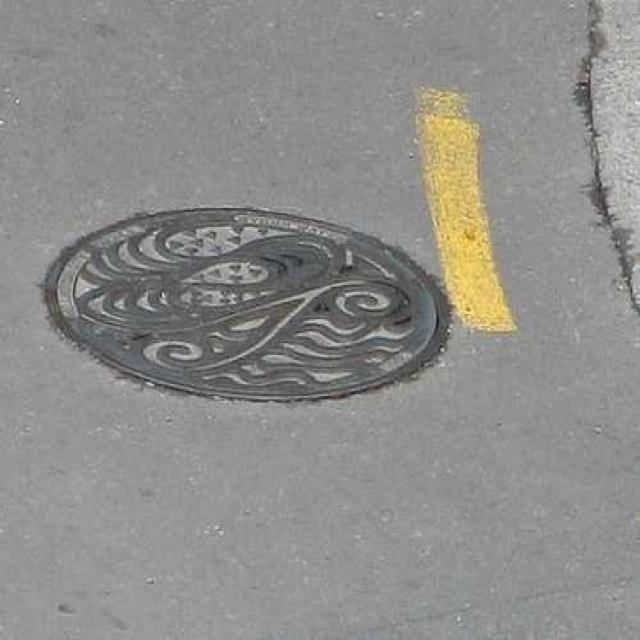manhole: (41, 205, 452, 406)
